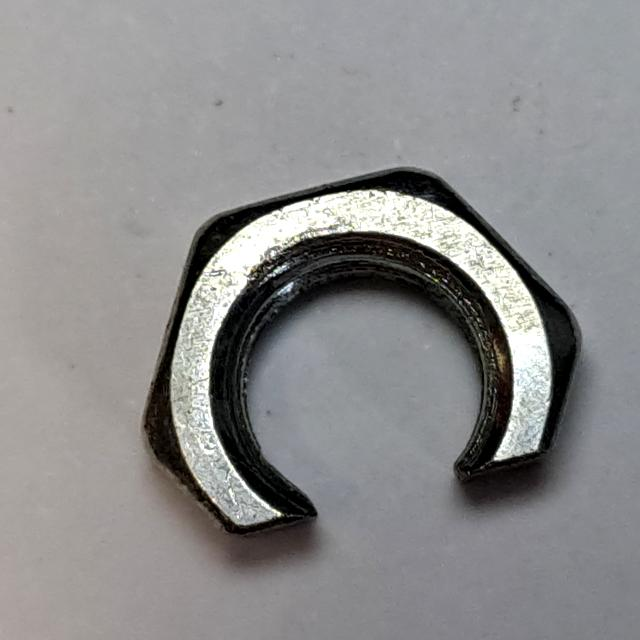Fracture: (128, 158, 597, 559)
